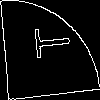T: (24, 24, 71, 61)
